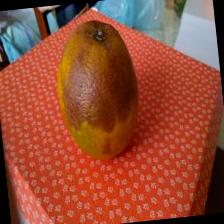Orange Rotten: (50, 10, 153, 170)
